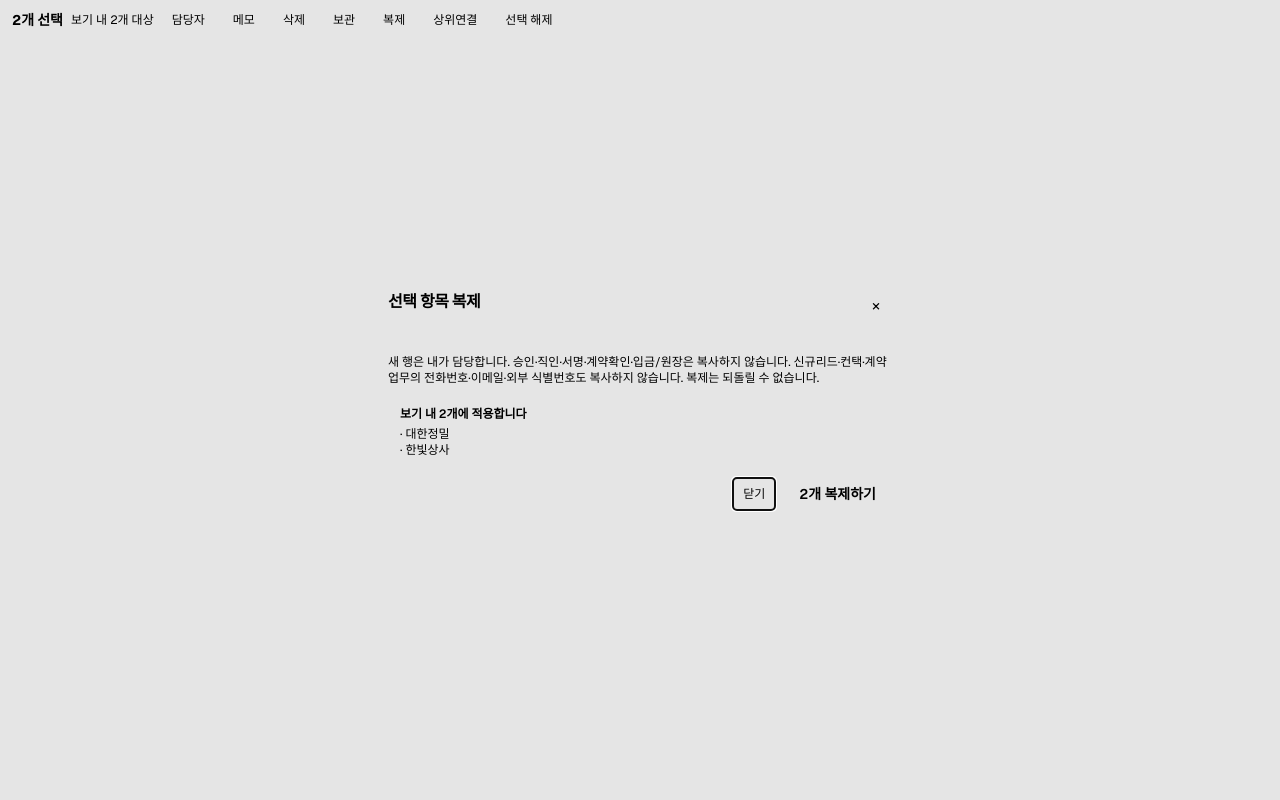
Test: keeps the same idempotency key after a transport failure
Step 1. Click the button "2개 복제하기" → (838, 494), box x1=783 y1=478 x2=892 y2=510
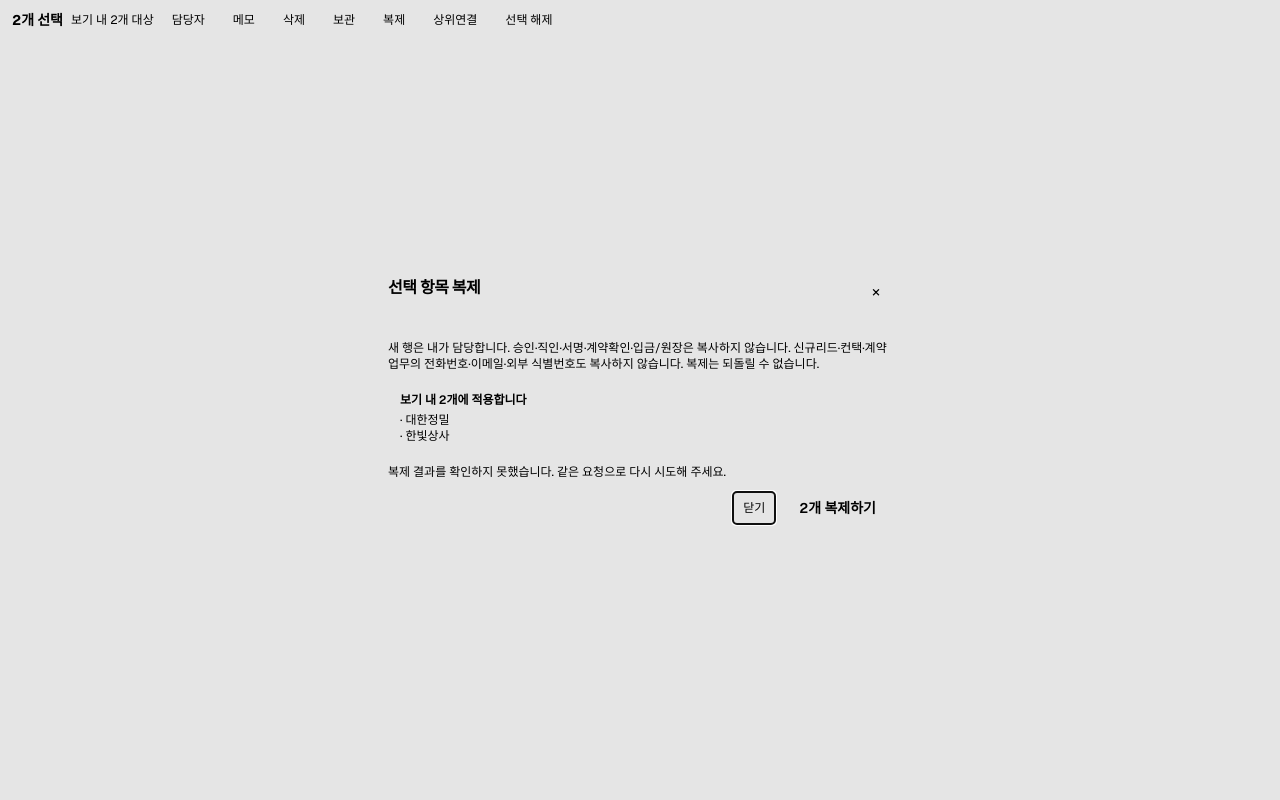
expect the message "복제 결과를 확인하지 못했습니다. 같은 요청으로 다시 시도해 주세요." is shown: met, box x1=388 y1=464 x2=726 y2=480
Step 2. Click the button "2개 복제하기" → (838, 508), box x1=783 y1=492 x2=892 y2=524
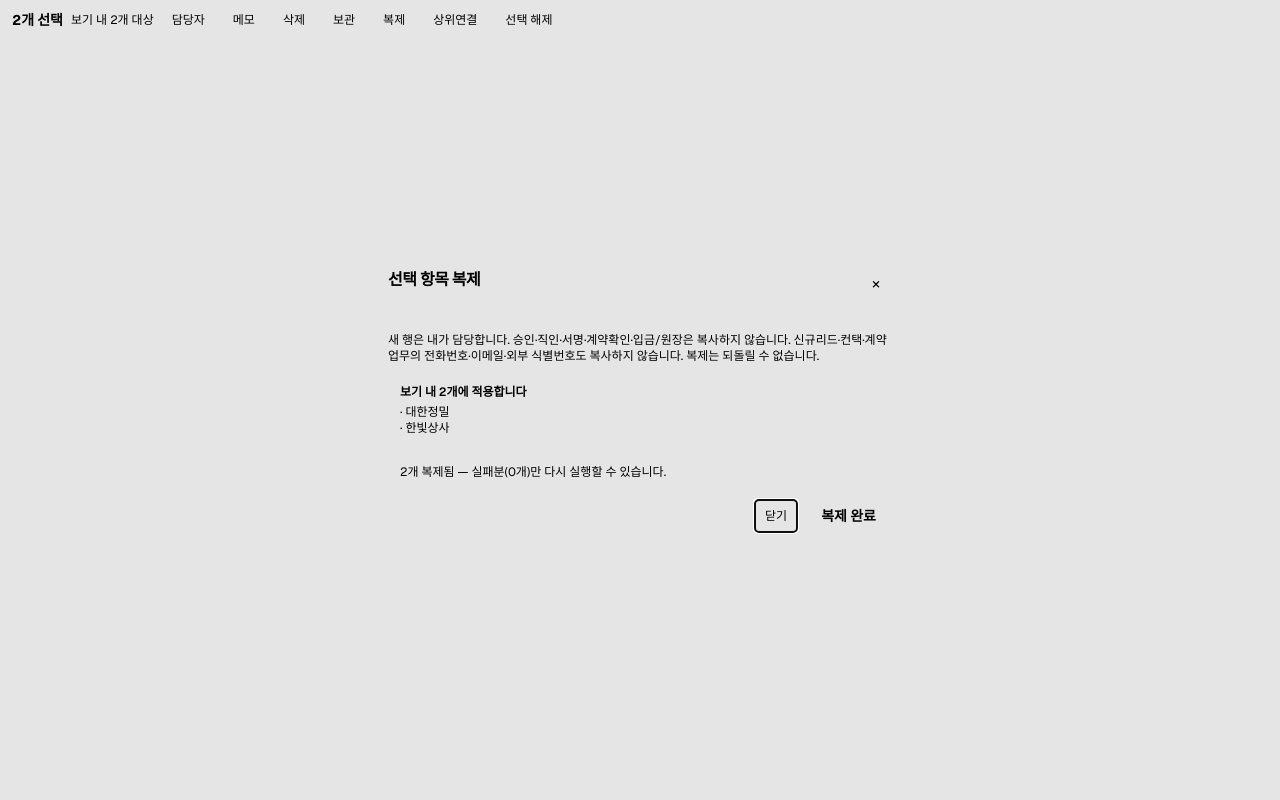
expect the button "복제 완료" is disabled: met, box x1=805 y1=500 x2=892 y2=532
